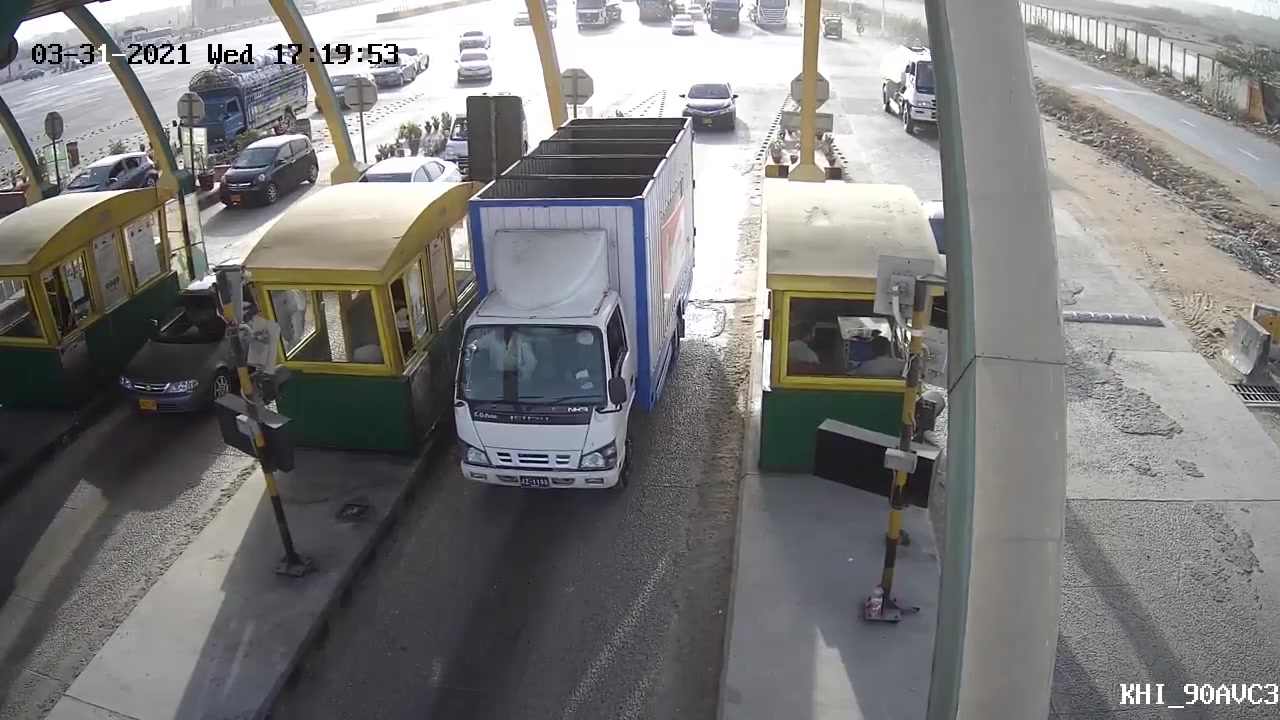F3: (447, 114, 698, 507)
